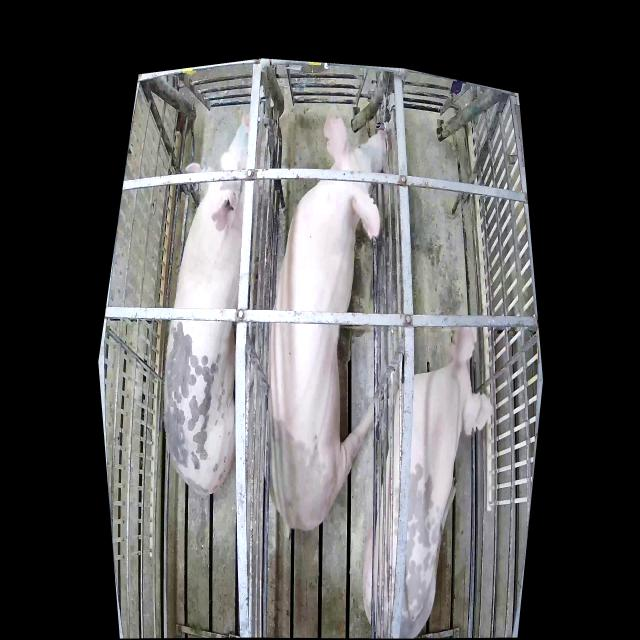pig: (268, 118, 384, 532), (361, 327, 494, 639), (165, 112, 261, 496)
